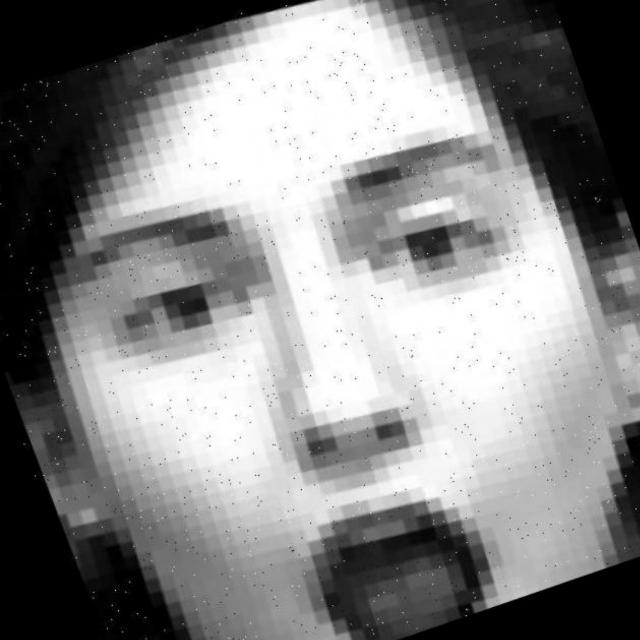Surprised: (42, 49, 640, 640)
